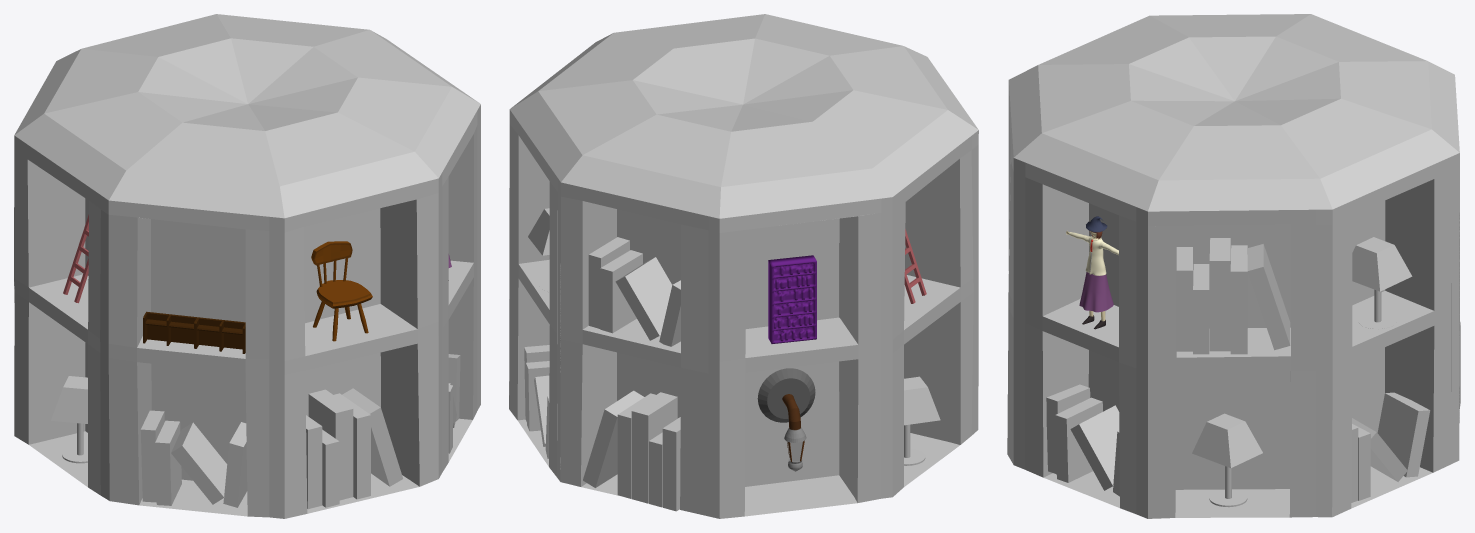
File: hondanaisu.fbx
3 renders of one model, left to right at view 1: azimuth 30°, elevation 25°; view 2: azimuth 150°, elevation 25°; view 3: azimuth 270°, elevation 25°, orthographic. The views are drawn at different scales.
Visible parts, largest first — view 1: Circle; view 2: Circle; view 3: Circle.
Boxes of the visible parts, x1,y1,x2,y2 form: Circle: (14,14,480,518); Circle: (509,14,978,518); Circle: (1007,14,1460,518).
Size of the model in its own units: 266 by 220 by 263.
